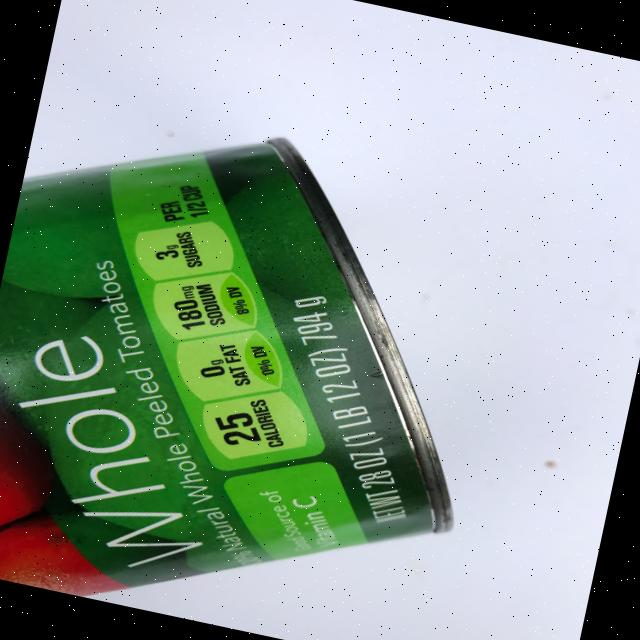metal: (0, 85, 526, 640)
